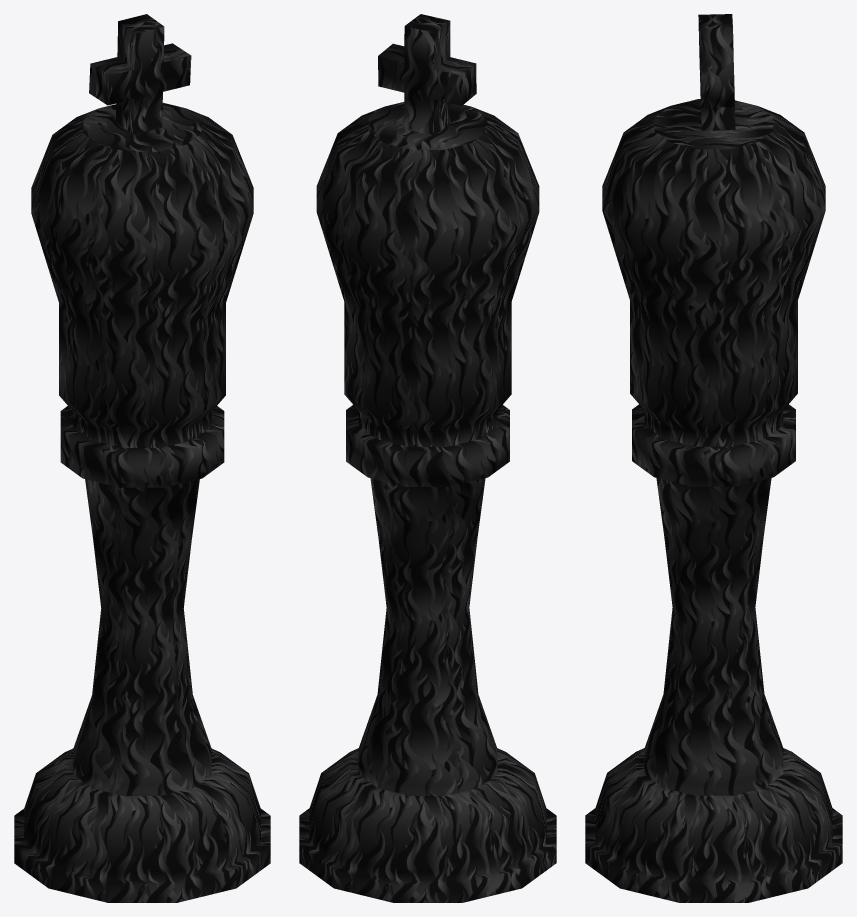
The model's file is King.glb.
The picture shows the model from 3 angles, left to right: view 1: azimuth 30°, elevation 25°; view 2: azimuth 150°, elevation 25°; view 3: azimuth 270°, elevation 25°; orthographic projection.
Parts seen in each view (by area): view 1: King; view 2: King; view 3: King.
Part boxes in pixels (x1,y1,x2,y2): King: [14, 14, 270, 902]; King: [299, 14, 556, 902]; King: [585, 14, 842, 902].
Bounding box in the file's own units: 0.1256 × 0.4453 × 0.1256.
1 material, 1 textured.
